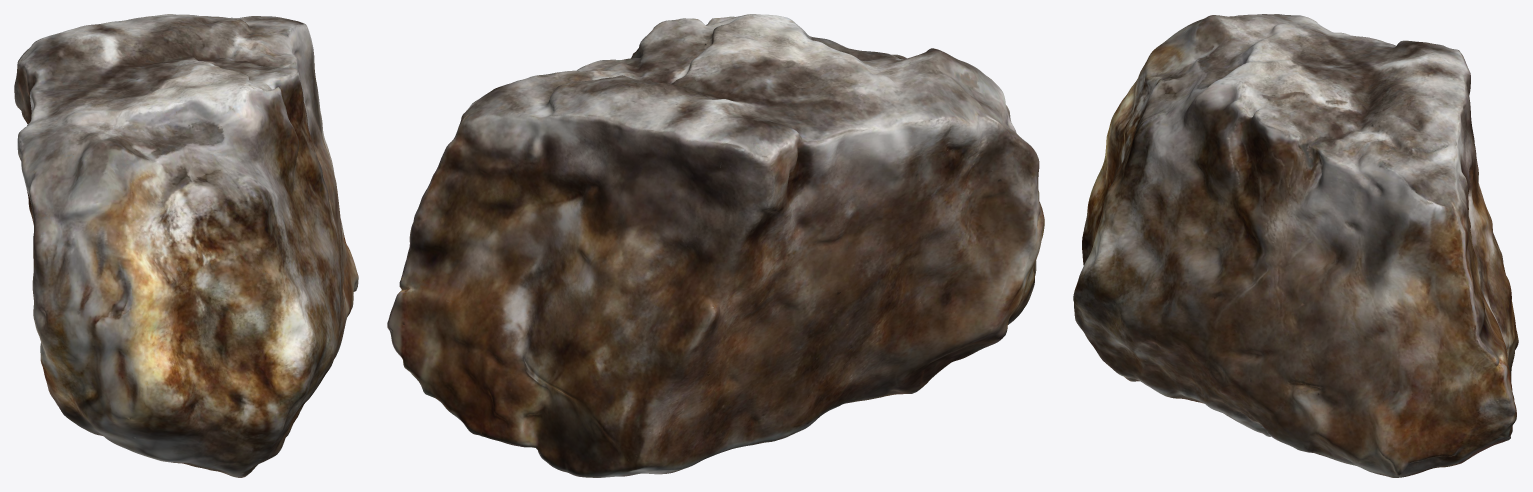
File: BrownRock1.fbx
The picture shows the model from 3 angles, left to right: view 1: azimuth 30°, elevation 25°; view 2: azimuth 150°, elevation 25°; view 3: azimuth 270°, elevation 25°; orthographic projection. The views are drawn at different scales.
Parts seen in each view (by area): view 1: rock4; view 2: rock4; view 3: rock4.
Boxes of the visible parts, <box> form: rock4: <box>14,14,358,477</box>; rock4: <box>387,14,1044,477</box>; rock4: <box>1073,14,1518,477</box>.
Bounding box in the file's own units: 200 × 149 × 184.
1 material, 1 textured.
